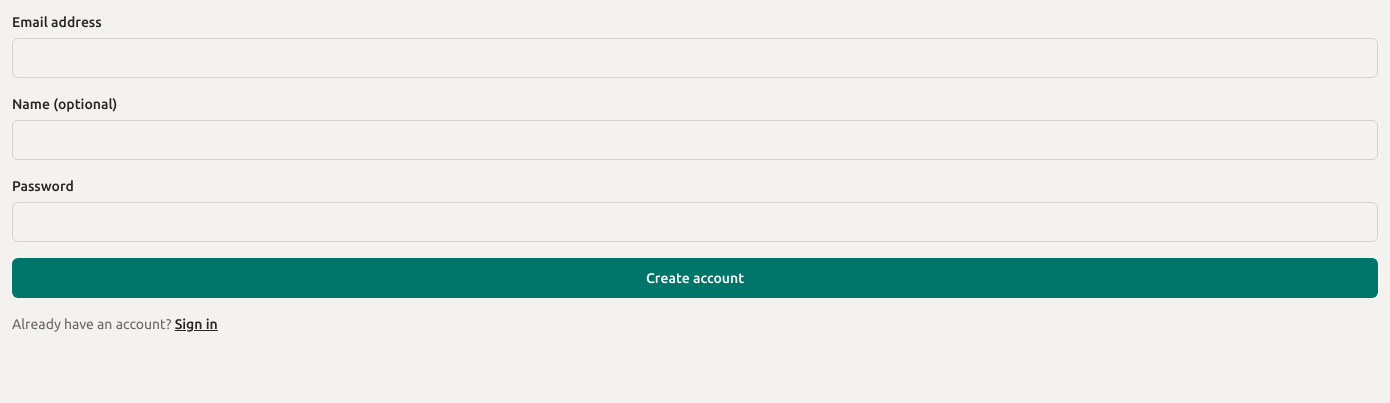
Test: RegisterForm › an unexpected error → generic retry message
Type "new@example.com" into the field labelled "Email address".
click(695, 58); type("new@example.com")  # box [12,38,1378,78]
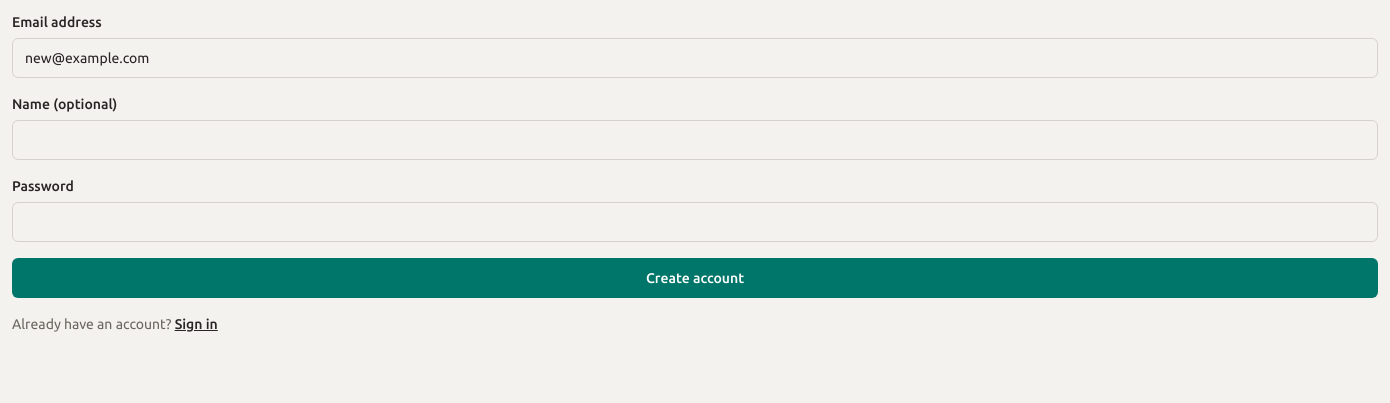
Type "a-strong-passphrase" into the password field labelled "Password".
click(695, 222); type("a-strong-passphrase")  # box [12,202,1378,242]
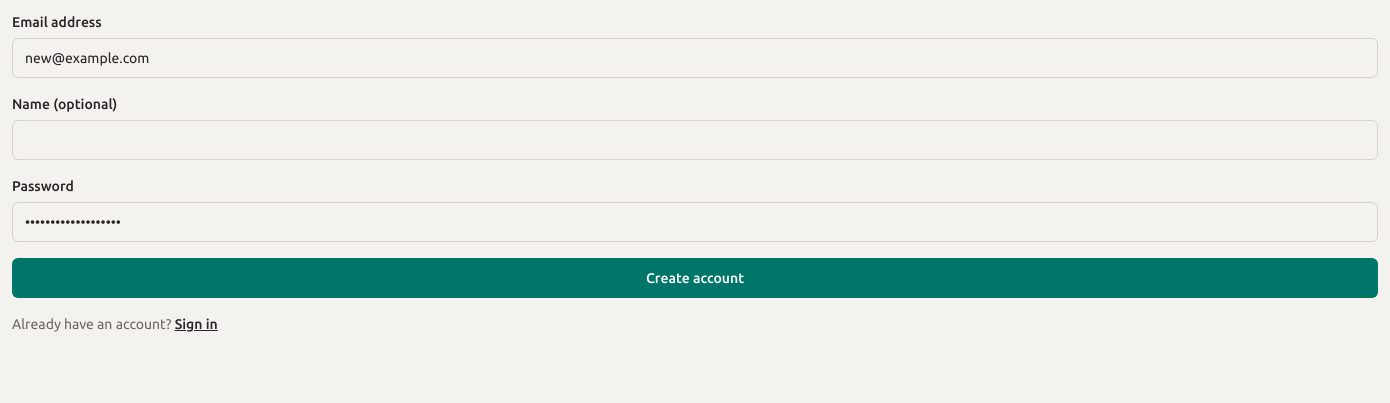
Click the button "Create account".
click(695, 278)  # box [12,258,1378,298]
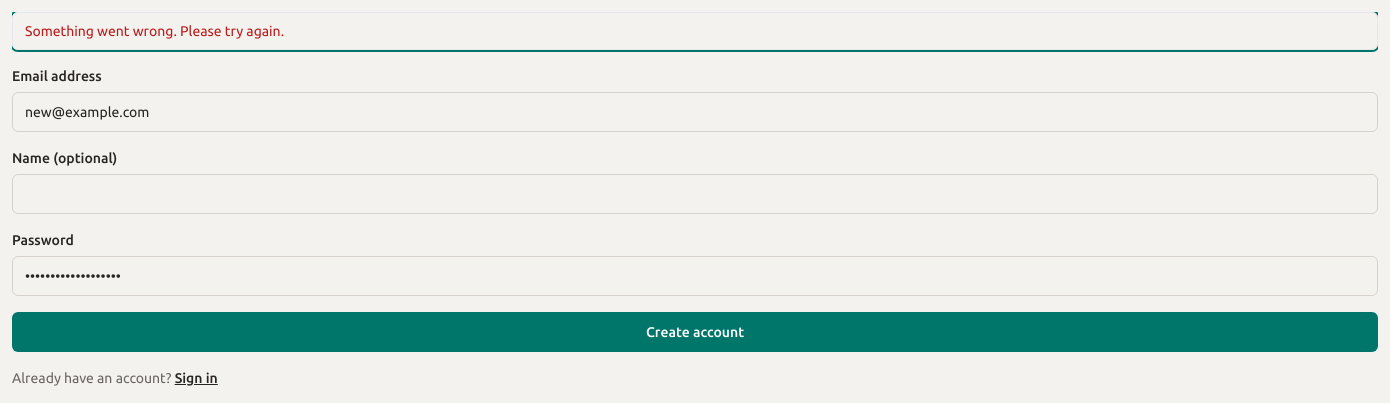
Check: the message shows "Something went wrong", box [25,23,284,39]
